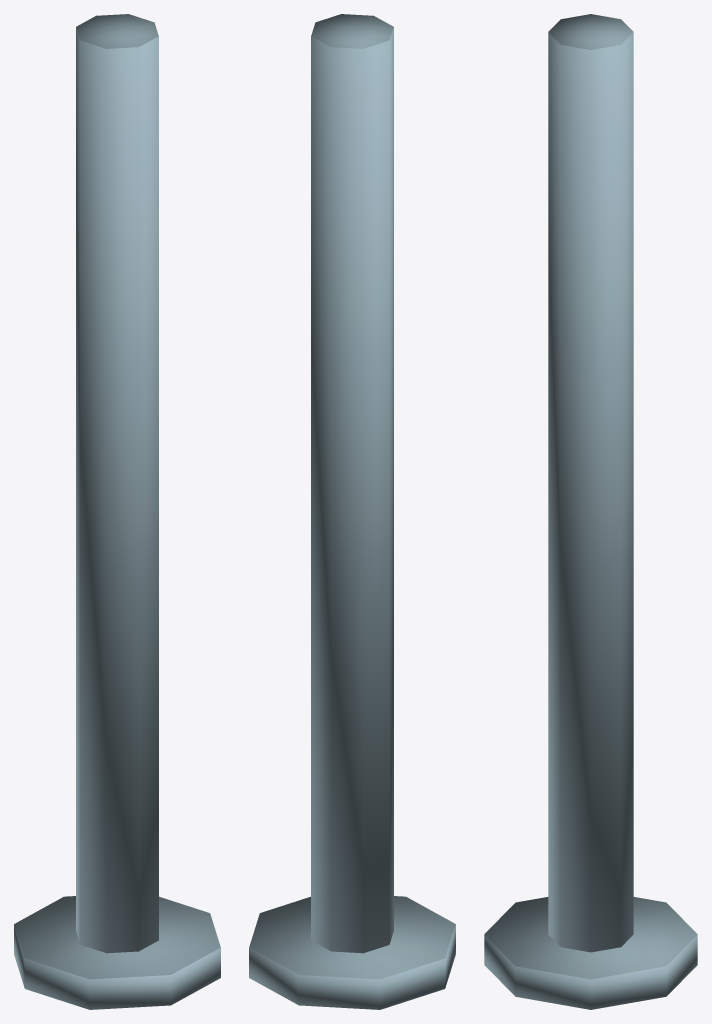
Rendered from Fence (UPDATED).fbx.
3 renders of one model, left to right at view 1: azimuth 30°, elevation 25°; view 2: azimuth 150°, elevation 25°; view 3: azimuth 270°, elevation 25°, orthographic.
Visible parts, largest first — view 1: Cylinder.001; view 2: Cylinder.001; view 3: Cylinder.001.
Part boxes in pixels (box(x1,y1,x2,y2)): Cylinder.001: box(14, 14, 220, 1009); Cylinder.001: box(249, 14, 455, 1009); Cylinder.001: box(484, 14, 697, 1009).
Size of the model in its own units: 69.81 by 336 by 69.81.
